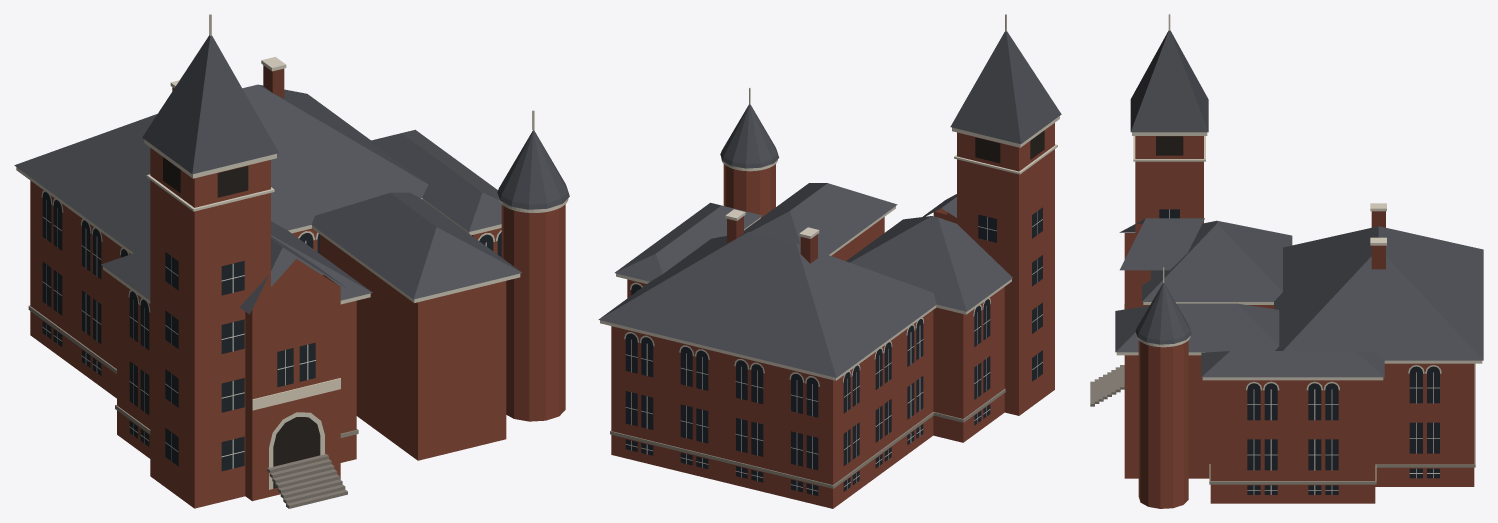
File: fort-steele-school-1913.glb
3 renders of one model, left to right at view 1: azimuth 30°, elevation 25°; view 2: azimuth 150°, elevation 25°; view 3: azimuth 270°, elevation 25°, orthographic. The views are drawn at different scales.
Parts seen in each view (by area): view 1: fort_brick, fort_slate, fort_glass, fort_trim, fort_dark, fort_base, fort_sash, fort_cream, fort_stone; view 2: fort_brick, fort_slate, fort_glass, fort_trim, fort_sash, fort_stone, fort_dark, fort_brick2; view 3: fort_slate, fort_brick, fort_glass, fort_trim, fort_stone, fort_sash, fort_base, fort_brick2, fort_dark.
Part boxes in pixels (left/top/right/bottom): fort_brick: left=30, top=148, right=565, bottom=508; fort_slate: left=14, top=35, right=569, bottom=314; fort_glass: left=42, top=191, right=501, bottom=471; fort_trim: left=16, top=14, right=568, bottom=489; fort_dark: left=163, top=157, right=320, bottom=488; fort_base: left=267, top=453, right=347, bottom=508; fort_sash: left=42, top=200, right=486, bottom=468; fort_cream: left=252, top=378, right=340, bottom=410; fort_stone: left=28, top=305, right=358, bottom=437; fort_brick: left=611, top=123, right=1054, bottom=508; fort_slate: left=598, top=31, right=1061, bottom=377; fort_glass: left=625, top=207, right=1042, bottom=495; fort_trim: left=600, top=14, right=1059, bottom=386; fort_sash: left=625, top=211, right=1042, bottom=494; fort_stone: left=610, top=389, right=1005, bottom=488; fort_dark: left=975, top=130, right=1044, bottom=163; fort_brick2: left=727, top=216, right=817, bottom=263; fort_slate: left=1115, top=30, right=1483, bottom=377; fort_brick: left=1124, top=136, right=1474, bottom=508; fort_glass: left=1159, top=209, right=1439, bottom=494; fort_trim: left=1116, top=14, right=1482, bottom=390; fort_stone: left=1209, top=363, right=1475, bottom=484; fort_sash: left=1169, top=209, right=1439, bottom=494; fort_base: left=1090, top=365, right=1124, bottom=406; fort_brick2: left=1371, top=211, right=1385, bottom=269; fort_dark: left=1156, top=136, right=1183, bottom=155.
Bounding box in the file's own units: 26.73 × 30.38 × 29.81.
